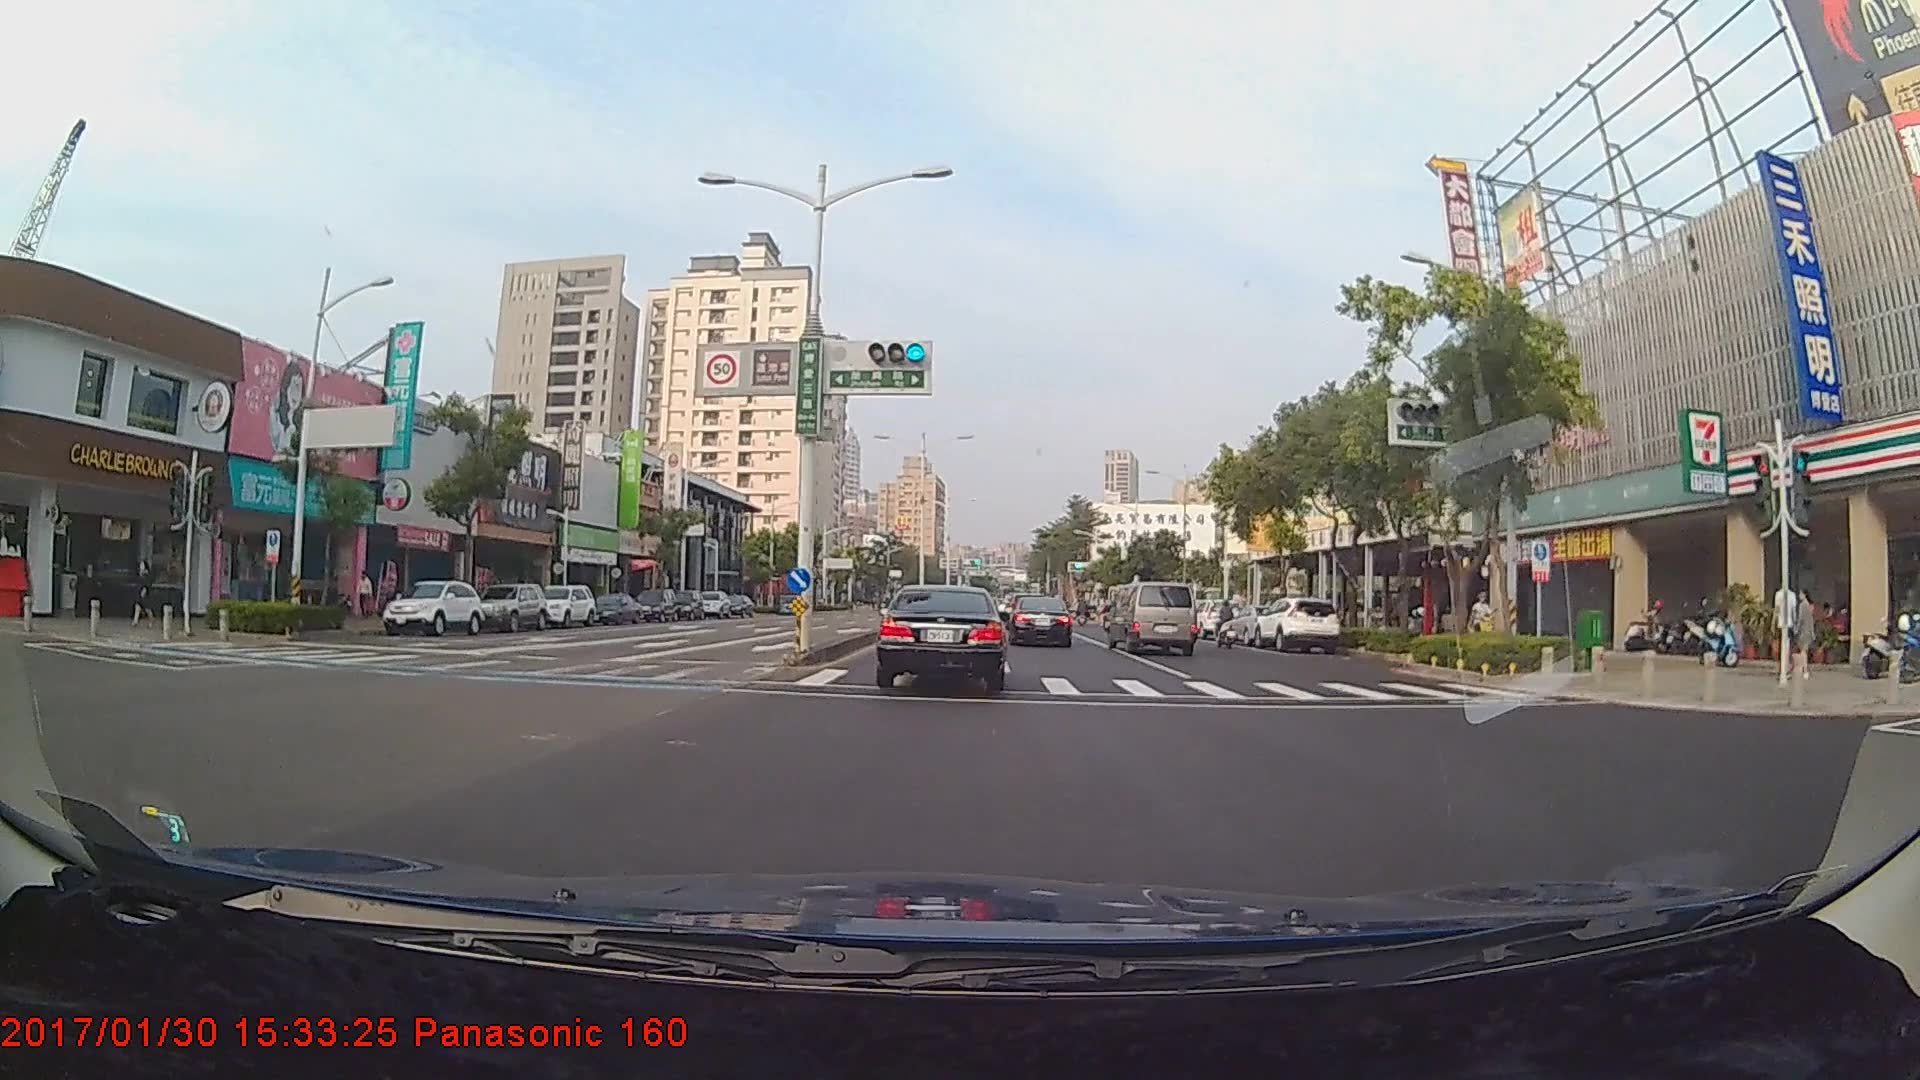pedestrian: (1774, 570, 1805, 678), (1791, 586, 1819, 678), (135, 551, 157, 623), (354, 571, 374, 621)
rider: (1211, 597, 1244, 650)
vehicle: (877, 582, 1005, 687), (1108, 579, 1198, 656), (378, 579, 485, 637), (1250, 594, 1341, 651), (471, 581, 548, 634), (1005, 594, 1073, 648), (534, 583, 598, 629), (633, 586, 679, 622), (593, 592, 641, 625)
